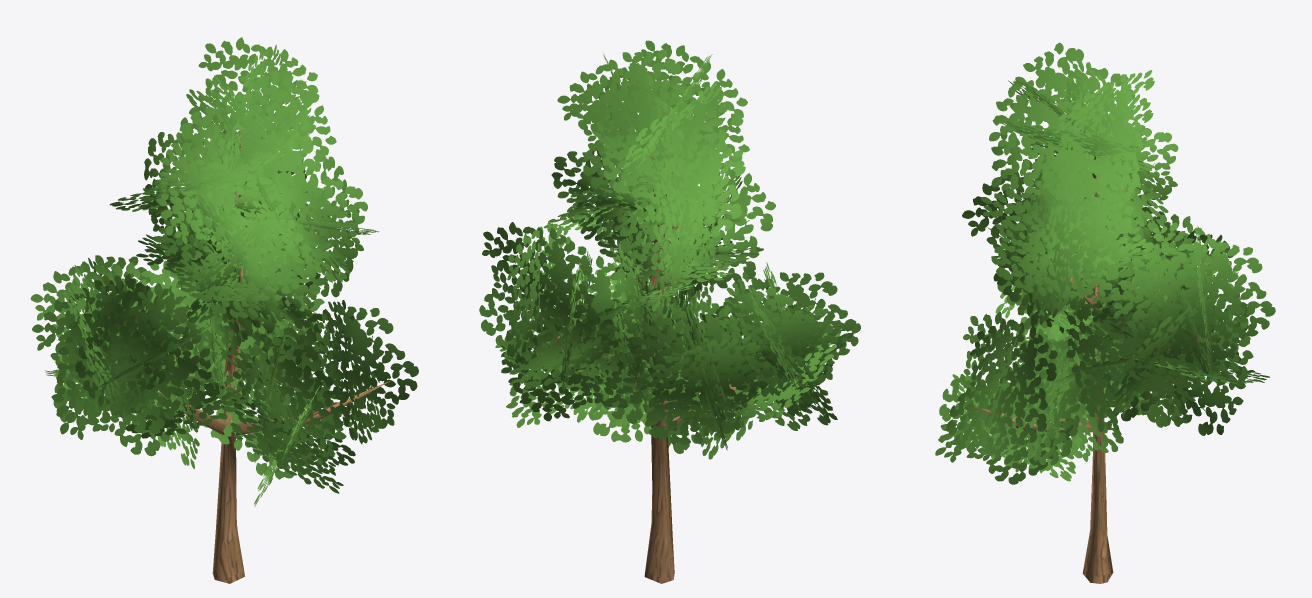
Rendered from toon_tree_tutorial.glb.
3 views of the same model, side by side, from view 1: azimuth 30°, elevation 25°; view 2: azimuth 150°, elevation 25°; view 3: azimuth 270°, elevation 25° (orthographic).
Visible parts, largest first — view 1: Tree.bakcup.002; view 2: Tree.bakcup.002; view 3: Tree.bakcup.002.
Part boxes in pixels (bbox=[...]): Tree.bakcup.002: bbox=[30, 37, 418, 583]; Tree.bakcup.002: bbox=[479, 40, 860, 583]; Tree.bakcup.002: bbox=[935, 42, 1275, 583].
Bounding box in the file's own units: 4.83 × 7.23 × 4.61.
Materials: 1 (1 with a texture image).
